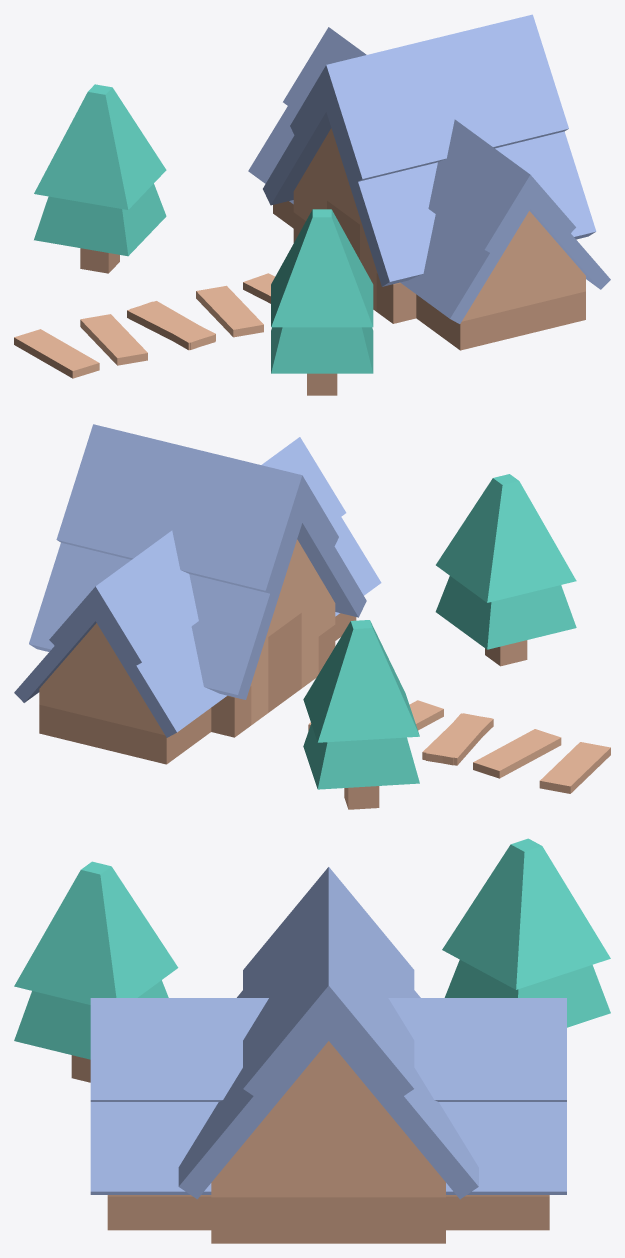
The model's file is Townhalllvl2.fbx.
The picture shows the model from 3 angles, top to bottom: view 1: azimuth 30°, elevation 25°; view 2: azimuth 150°, elevation 25°; view 3: azimuth 270°, elevation 25°; orthographic projection. The views are drawn at different scales.
Parts seen in each view (by area): view 1: Building, Tree1, Tree3, Path.001, Path.002; view 2: Building, Tree3, Tree1, Path.001, Path.002; view 3: Building, Tree1, Tree3.
Part boxes in pixels (bbox=[...]): Building: bbox=[248, 14, 610, 350]; Tree1: bbox=[34, 84, 166, 273]; Tree3: bbox=[271, 209, 373, 395]; Path.001: bbox=[14, 301, 215, 378]; Path.002: bbox=[130, 273, 274, 350]; Building: bbox=[14, 424, 381, 764]; Tree3: bbox=[435, 474, 576, 666]; Tree1: bbox=[303, 620, 419, 809]; Path.001: bbox=[426, 713, 610, 793]; Path.002: bbox=[308, 700, 493, 765]; Building: bbox=[90, 867, 566, 1243]; Tree1: bbox=[442, 838, 610, 1027]; Tree3: bbox=[14, 861, 178, 1082].
Size of the model in its own units: 86.28 by 37.81 by 76.36.
